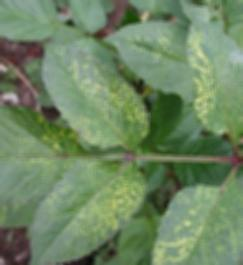Tomato leaf mosaic virus: (25, 158, 148, 265), (39, 41, 148, 152), (148, 174, 243, 265), (182, 16, 243, 151)
